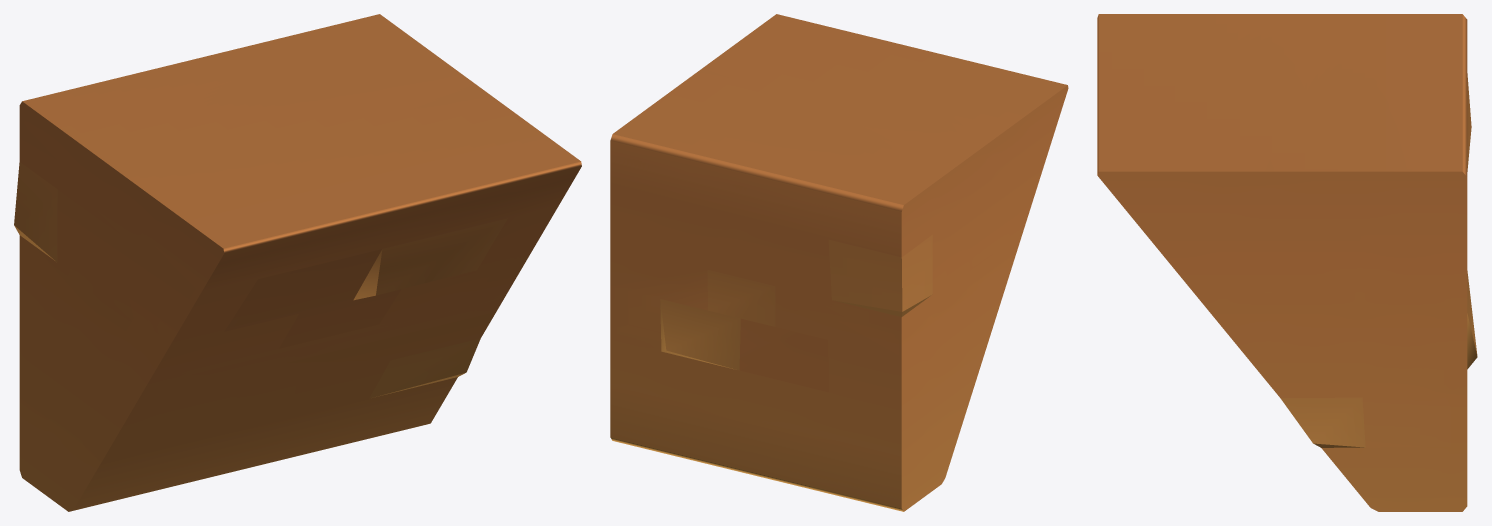
File: pyramid_wall_2m1.fbx
3 views of the same model, side by side, from view 1: azimuth 30°, elevation 25°; view 2: azimuth 150°, elevation 25°; view 3: azimuth 270°, elevation 25° (orthographic). The views are drawn at different scales.
Visible parts, largest first — view 1: pyramid_wall_2m1; view 2: pyramid_wall_2m1; view 3: pyramid_wall_2m1.
Boxes of the visible parts, x1,y1,x2,y2 form: pyramid_wall_2m1: (14,14,581,511); pyramid_wall_2m1: (610,14,1068,511); pyramid_wall_2m1: (1097,14,1477,511).
Size of the model in its own units: 408 by 402 by 408.
